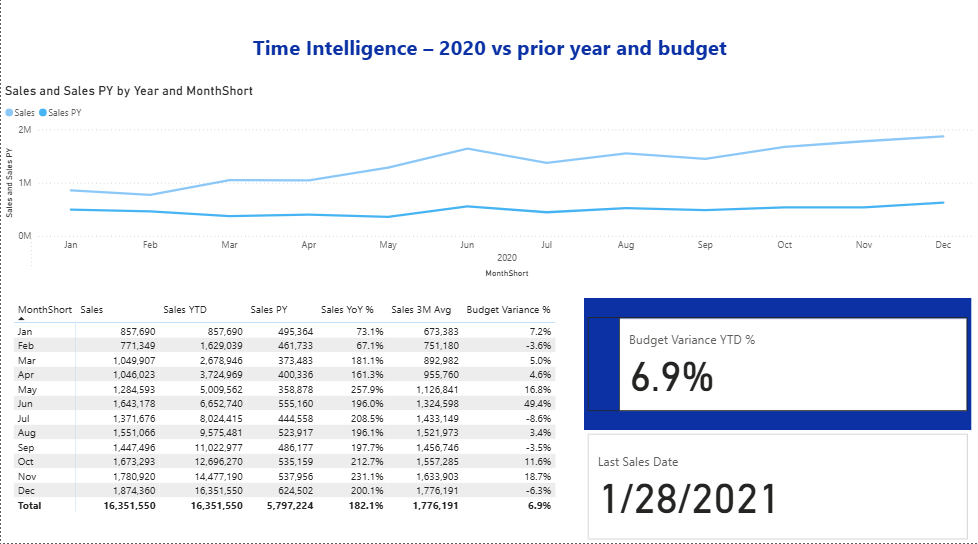

This screenshot's page, from the dashboard's own definition file:
{"tool":"powerbi","page":{"name":"Time Intelligence","canvas":[1280,720],"ordinal":3},"visuals":[{"type":"lineChart","fields":{"Category":["DIM_Calendar.Year","DIM_Calendar.MonthShort"],"Y":["Analysis Metrics.Sales","Analysis Metrics.Sales PY"]},"box":[0,118.4,1280,260.1],"z":0},{"type":"pivotTable","fields":{"Rows":["DIM_Calendar.Year","DIM_Calendar.MonthShort"],"Values":["Analysis Metrics.Sales","Analysis Metrics.Sales YTD","Analysis Metrics.Sales PY","Analysis Metrics.Sales YoY %","Analysis Metrics.Sales 3M Avg","Analysis Metrics.Budget Variance %"]},"box":[11.3,398.9,732.4,302.4],"z":1000},{"type":"cardVisual","fields":{"Data":["Analysis Metrics.Budget Variance YTD %"],"Rows":["DIM_Calendar.Year"]},"box":[762.6,398.9,507.5,173.4],"z":2000},{"type":"cardVisual","fields":{"Data":["Analysis Metrics.Last Sales Date"]},"box":[762.6,572.3,507.5,148],"z":3000},{"type":"textbox","box":[0,46.5,1280,59.2],"z":4000}]}

Visuals, with their boxes in screenshot pixels (x1, y1, x2, y2), scaled from the page's 1280x720 canvas onto the 978x544 screenshot:
lineChart - DIM_Calendar.Year x DIM_Calendar.MonthShort: rect(0, 89, 977, 286)
pivotTable - DIM_Calendar.Year x DIM_Calendar.MonthShort: rect(9, 301, 568, 530)
cardVisual - Analysis Metrics.Budget Variance YTD % x DIM_Calendar.Year: rect(583, 301, 970, 432)
cardVisual - Analysis Metrics.Last Sales Date: rect(583, 432, 970, 543)
textbox: rect(0, 35, 977, 80)
